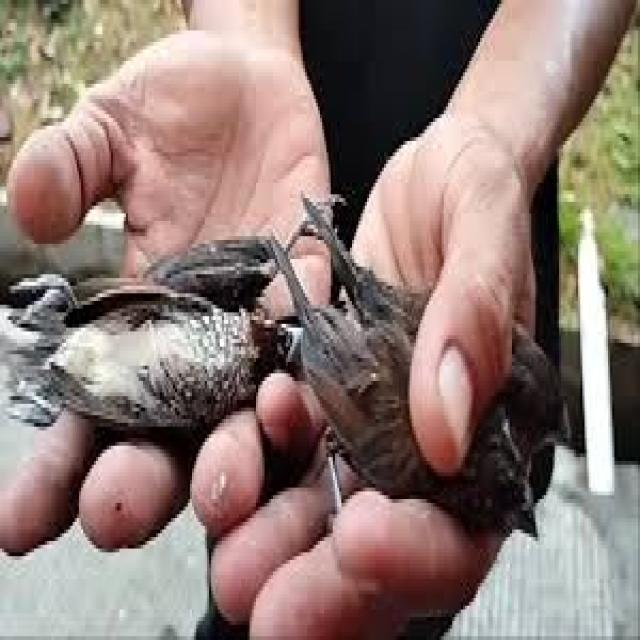Bangkai Burung: (270, 152, 566, 538), (12, 182, 292, 447)
